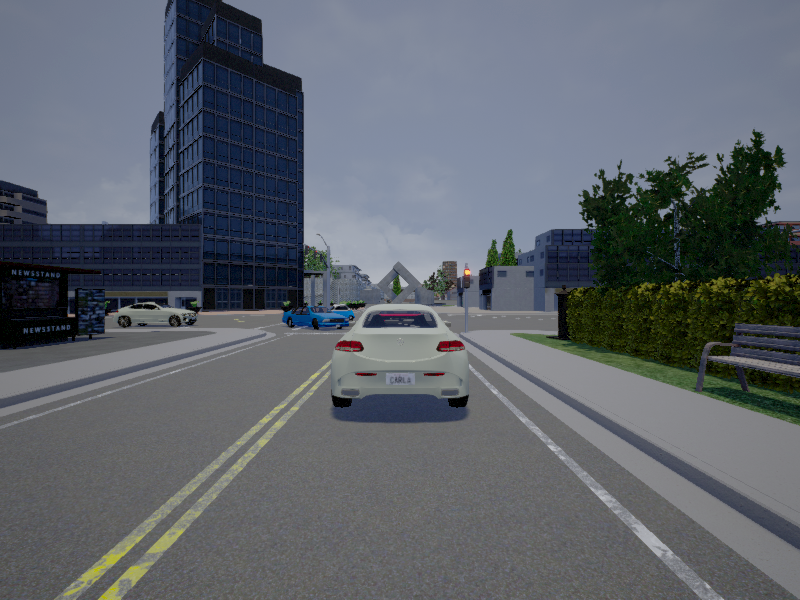Benign: (331, 307, 471, 408), (110, 301, 198, 330), (282, 306, 350, 332)
